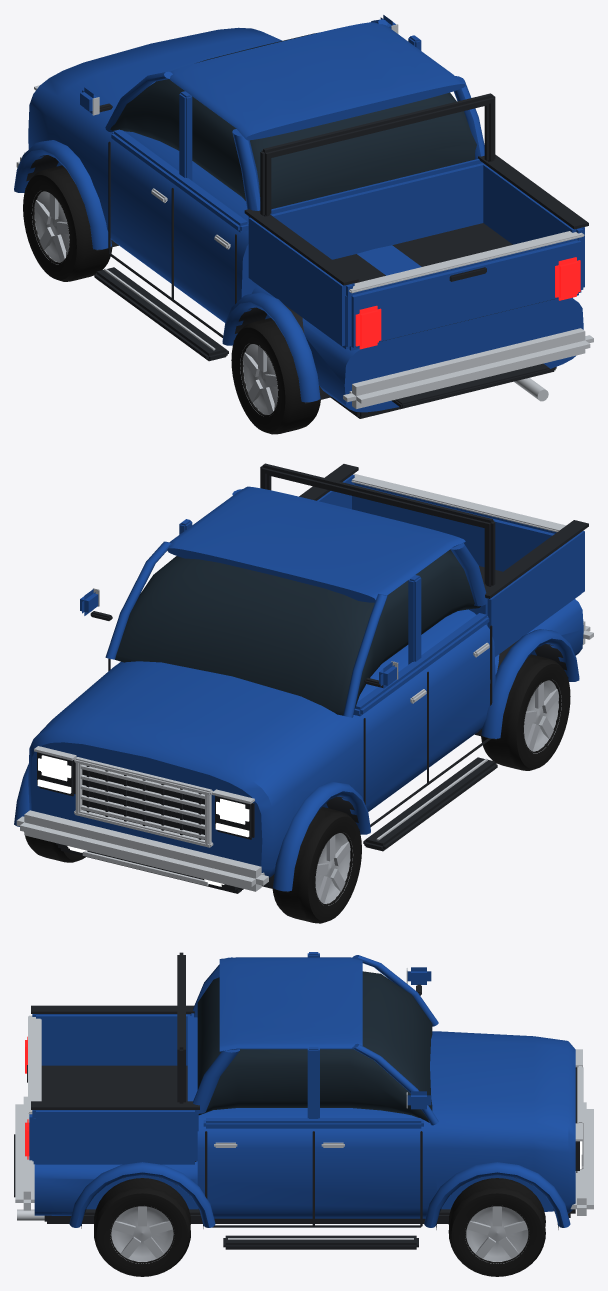
File: pickup.glb
3 renders of one model, top to bottom at view 1: azimuth 30°, elevation 25°; view 2: azimuth 150°, elevation 25°; view 3: azimuth 270°, elevation 25°, orthographic. The views are drawn at different scales.
Visible parts, largest first — view 1: body_paint, body_glass, body_plastic, body_chrome, tire_RL_rubber, tire_FL_rubber, body_taillight, tire_FL_rim, tire_RL_rim; view 2: body_paint, body_glass, body_chrome, body_plastic, tire_FL_rubber, tire_RL_rubber, body_headlight, tire_FL_rim, tire_RL_rim, tire_FR_rubber; view 3: body_paint, body_glass, body_plastic, body_chrome, tire_RR_rubber, tire_FR_rubber, tire_RR_rim, tire_FR_rim.
Boxes of the visible parts, x1,y1,x2,y2 form: body_paint: [14, 15, 584, 412]; body_glass: [110, 33, 476, 209]; body_plastic: [25, 93, 588, 418]; body_chrome: [16, 24, 593, 409]; tire_RL_rubber: [231, 318, 320, 434]; tire_FL_rubber: [23, 165, 112, 281]; body_taillight: [355, 257, 580, 349]; tire_FL_rim: [31, 191, 69, 264]; tire_RL_rim: [240, 344, 278, 416]; body_paint: [14, 474, 584, 891]; body_glass: [115, 549, 480, 715]; body_chrome: [16, 473, 593, 891]; body_plastic: [37, 463, 588, 893]; tire_FL_rubber: [272, 807, 361, 923]; tire_RL_rubber: [481, 654, 570, 770]; body_headlight: [37, 755, 249, 886]; tire_FL_rim: [315, 833, 353, 905]; tire_RL_rim: [523, 679, 561, 753]; tire_FR_rubber: [25, 835, 85, 862]; body_paint: [29, 952, 575, 1227]; body_glass: [197, 971, 432, 1122]; body_plastic: [14, 952, 579, 1249]; body_chrome: [15, 968, 593, 1239]; tire_RR_rubber: [94, 1178, 190, 1276]; tire_FR_rubber: [448, 1178, 545, 1276]; tire_RR_rim: [110, 1206, 174, 1263]; tire_FR_rim: [465, 1206, 529, 1263].
Size of the model in its own units: 2.47 by 1.99 by 4.74.
